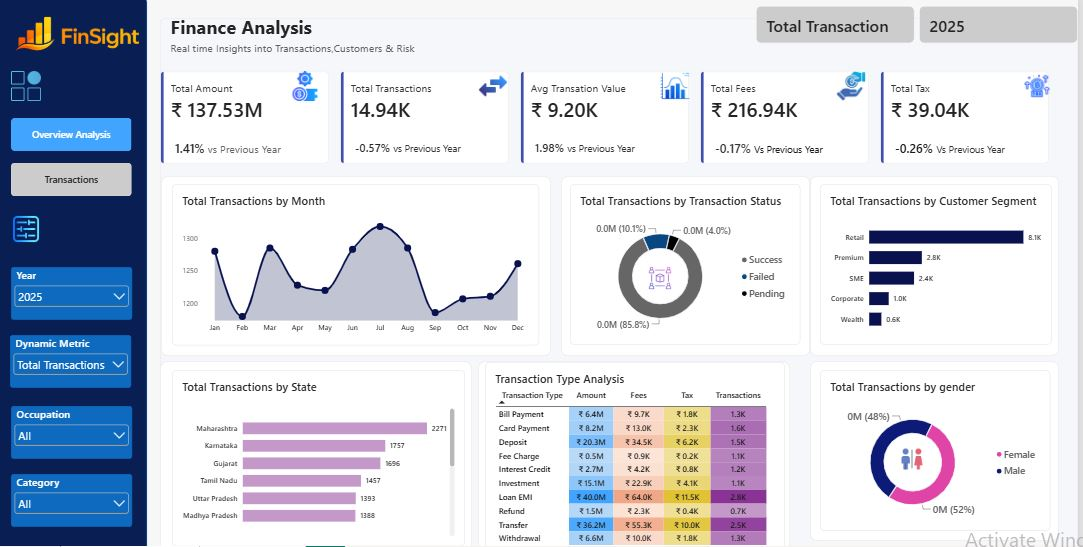

Layout of this report page (visuals, bound fields, positions):
{"tool":"powerbi","page":{"name":"Overview Analysis","canvas":[1800,950],"ordinal":0},"visuals":[{"type":"shape","box":[0,0,248.6,938.6],"z":0},{"type":"shape","box":[270,32.9,1530,916.3],"z":1000},{"type":"image","box":[22.4,14.3,226.5,89.8],"z":2000},{"type":"cardVisual","fields":{"Data":["finance_transactions.dashboaasr table"]},"box":[272,0,478,122],"z":3000},{"type":"cardVisual","fields":{"Data":["finance_transactions.Total Amount","finance_transactions.Total Transactions","finance_transactions.Avg Transation Value","finance_transactions.Total Fees","finance_transactions.Total Tax"]},"box":[270,122,1486,155],"z":4000},{"type":"image","box":[486.7,121.7,50,50],"z":5000},{"type":"image","box":[800,121.7,50,50],"z":6000},{"type":"image","box":[1396.7,121.7,50,50],"z":7000},{"type":"image","box":[1103.3,121.7,50,50],"z":8000},{"type":"image","box":[1706.7,121.7,50,50],"z":9000},{"type":"shape","box":[272,296,650,300],"z":10000},{"type":"areaChart","fields":{"Y":["finance_transactions.Total Transactions"],"Category":["Calendar Table.Month"]},"box":[290.2,309.8,611.8,268.6],"z":11000},{"type":"cardVisual","fields":{"Data":["finance_transactions.Selected Dynamnic measure","finance_transactions.Selected Year"]},"box":[1264,14,536,62],"z":12000},{"type":"shape","box":[938,296,415,300],"z":13000},{"type":"donutChart","fields":{"Y":["finance_transactions.Total Transactions"],"Category":["finance_transactions.transaction_status"]},"box":[954,310,384,268],"z":14000},{"type":"shape","box":[1354,296,415,300],"z":15000},{"type":"barChart","fields":{"Y":["finance_transactions.Total Transactions"],"Category":["customers.customer_segment"]},"box":[1370,310,386,268],"z":16000},{"type":"shape","box":[270,605.7,520,325],"z":17000},{"type":"barChart","fields":{"Y":["finance_transactions.Total Transactions"],"Category":["customers.state"]},"box":[290,620,488,294],"z":18000},{"type":"shape","box":[800,605,520,325],"z":19000},{"type":"tableEx","title":"Transaction Type Analysis","fields":{"Values":["finance_transactions.transaction_type","finance_transactions.Total Amount","finance_transactions.Total Fees","finance_transactions.Total Tax","finance_transactions.Total Transactions"]},"box":[812,606,500,326],"z":20000},{"type":"shape","box":[1352.5,605,415,300],"z":21000},{"type":"donutChart","fields":{"Y":["finance_transactions.Total Transactions"],"Category":["customers.gender"]},"box":[1370,620,384,268],"z":22000},{"type":"image","box":[1083.8,441.2,40,50],"z":23000},{"type":"image","box":[1502.5,743.8,40,50],"z":24000},{"type":"slicer","fields":{"Values":["Dynamic Metric.Dynamic Metric"]},"box":[20,562,202,88],"z":25000},{"type":"slicer","fields":{"Values":["Calendar Table.Year"]},"box":[22,448,202,88],"z":26000},{"type":"slicer","fields":{"Values":["customers.occupation"]},"box":[22,680,202,88],"z":27000},{"type":"slicer","fields":{"Values":["finance_transactions.merchant_category"]},"box":[22,794,202,88],"z":28000},{"type":"pageNavigator","box":[22,200,201.7,130],"z":29000},{"type":"image","box":[22,122,50,50],"z":30000},{"type":"image","box":[22,360,50,50],"z":31000}]}

Visuals, with their boxes on the page's 1800x950 design canvas (x1, y1, x2, y2). These are canvas units, not pixel positions in the 1083x547 screenshot, which may show the page scaled, cropped or inside an application window:
shape: region(0, 0, 249, 939)
shape: region(270, 33, 1800, 949)
image: region(22, 14, 249, 104)
cardVisual - finance_transactions.dashboaasr table: region(272, 0, 750, 122)
cardVisual - finance_transactions.Total Amount x finance_transactions.Total Transactions: region(270, 122, 1756, 277)
image: region(487, 122, 537, 172)
image: region(800, 122, 850, 172)
image: region(1397, 122, 1447, 172)
image: region(1103, 122, 1153, 172)
image: region(1707, 122, 1757, 172)
shape: region(272, 296, 922, 596)
areaChart - finance_transactions.Total Transactions x Calendar Table.Month: region(290, 310, 902, 578)
cardVisual - finance_transactions.Selected Dynamnic measure x finance_transactions.Selected Year: region(1264, 14, 1800, 76)
shape: region(938, 296, 1353, 596)
donutChart - finance_transactions.Total Transactions x finance_transactions.transaction_status: region(954, 310, 1338, 578)
shape: region(1354, 296, 1769, 596)
barChart - finance_transactions.Total Transactions x customers.customer_segment: region(1370, 310, 1756, 578)
shape: region(270, 606, 790, 931)
barChart - finance_transactions.Total Transactions x customers.state: region(290, 620, 778, 914)
shape: region(800, 605, 1320, 930)
"Transaction Type Analysis" tableEx: region(812, 606, 1312, 932)
shape: region(1352, 605, 1768, 905)
donutChart - finance_transactions.Total Transactions x customers.gender: region(1370, 620, 1754, 888)
image: region(1084, 441, 1124, 491)
image: region(1502, 744, 1542, 794)
slicer - Dynamic Metric.Dynamic Metric: region(20, 562, 222, 650)
slicer - Calendar Table.Year: region(22, 448, 224, 536)
slicer - customers.occupation: region(22, 680, 224, 768)
slicer - finance_transactions.merchant_category: region(22, 794, 224, 882)
pageNavigator: region(22, 200, 224, 330)
image: region(22, 122, 72, 172)
image: region(22, 360, 72, 410)
